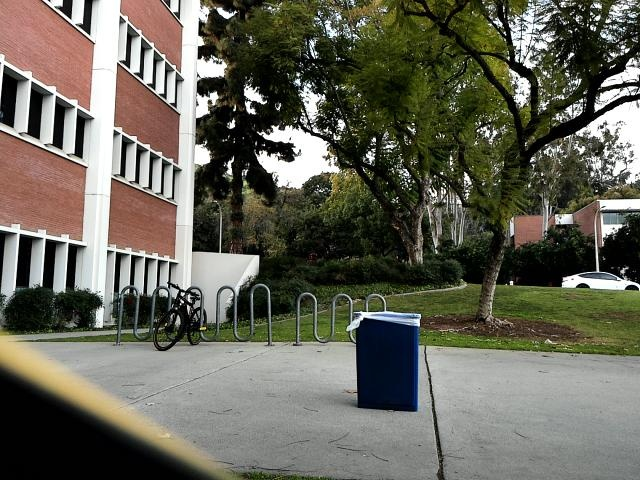trashcan_open: (344, 310, 426, 418)
